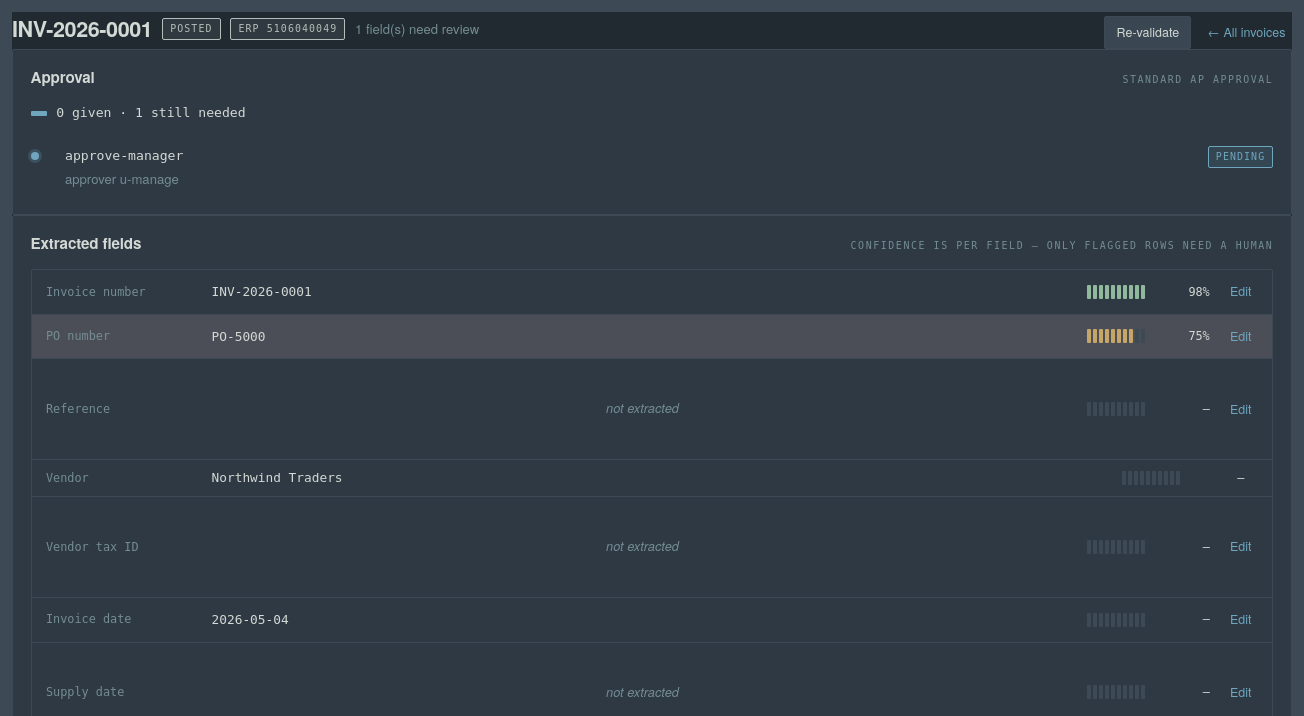
correcting a field › explains a posted invoice differently from a role refusal
Click the button "Edit" next to "75%".
click(1241, 336)  # box [1223,323,1258,350]
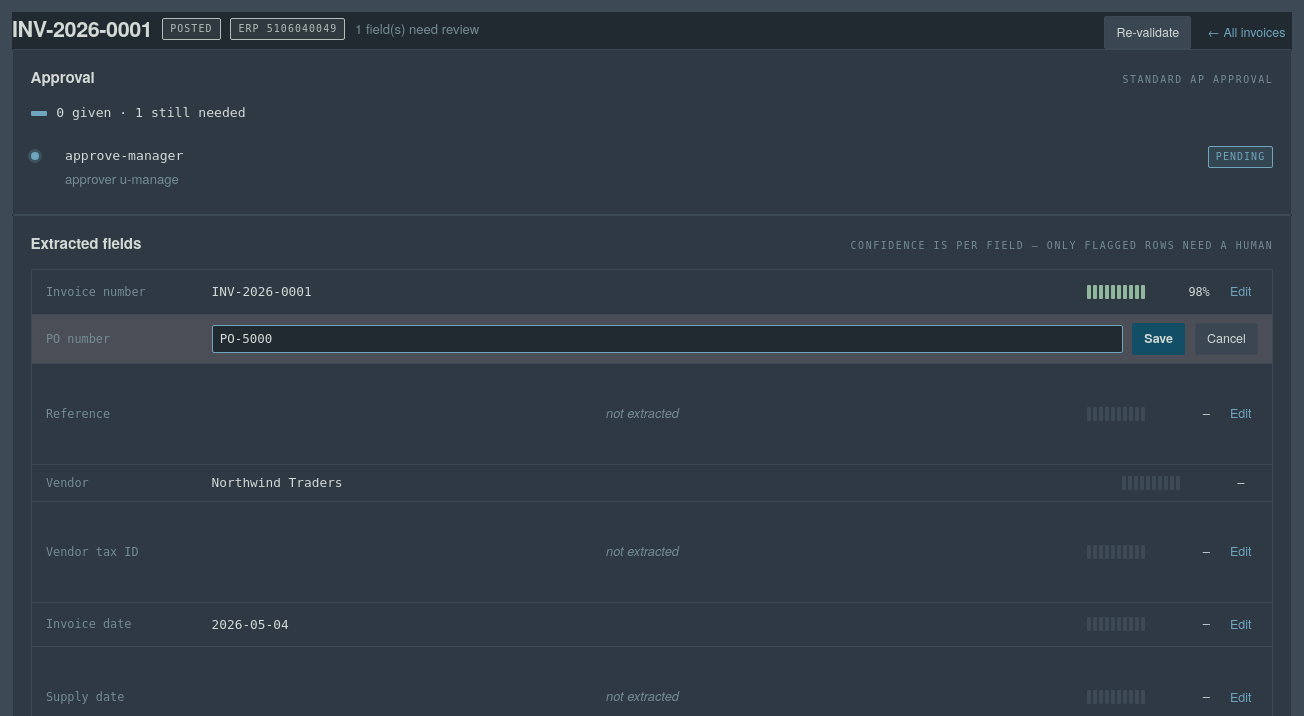
Type "PO-1" into the field.
click(667, 339); type("PO-1")  # box [212,325,1123,353]
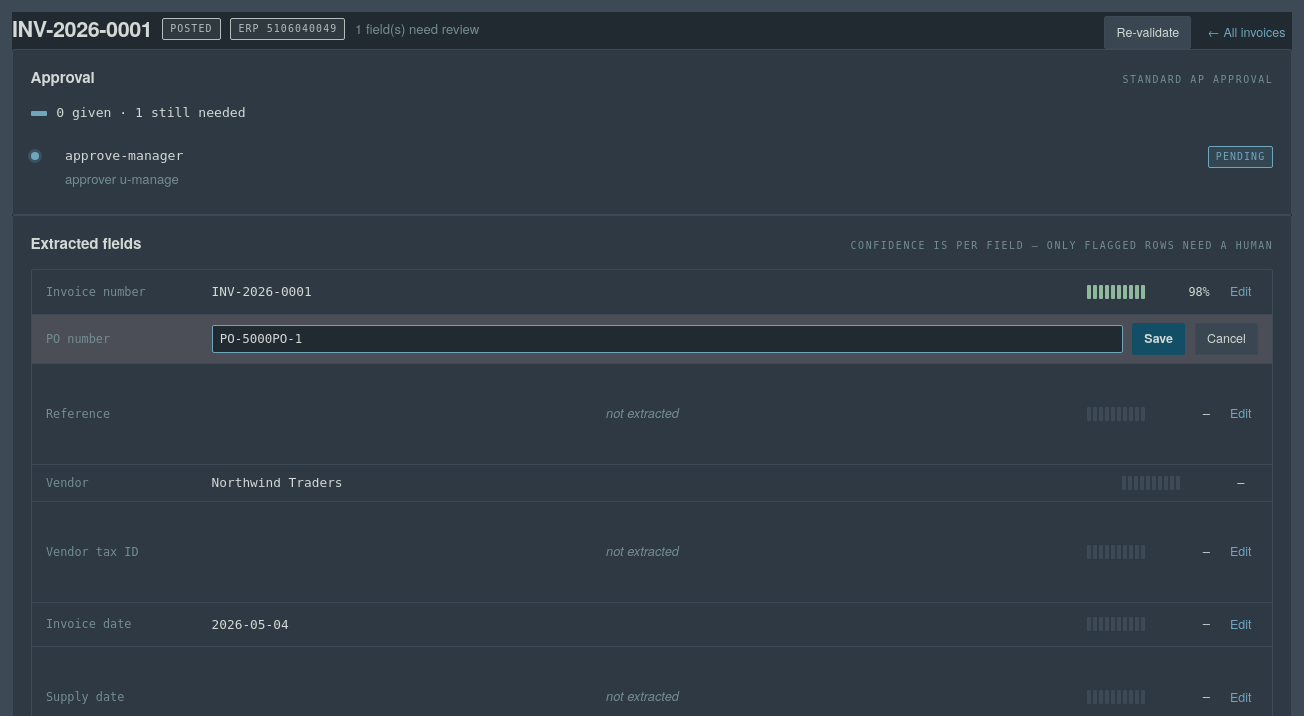
Click the button "Save".
click(1159, 339)  # box [1132,323,1185,355]
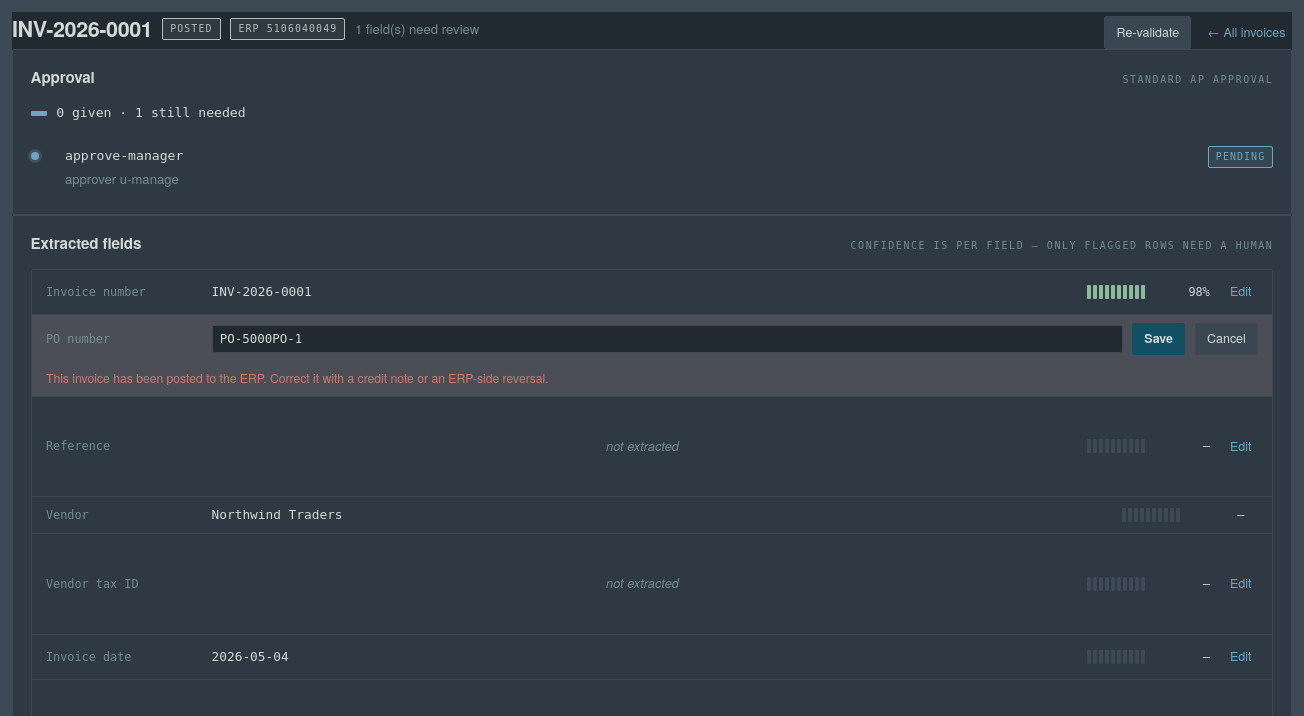
Check: the text "credit note or an ERP-side reversal" is shown, box [46,369,549,386]
